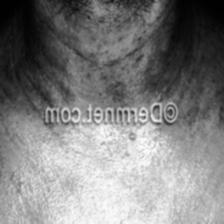Non-Cancerous Skin Condition: (52, 152, 170, 224), (130, 131, 135, 141)
